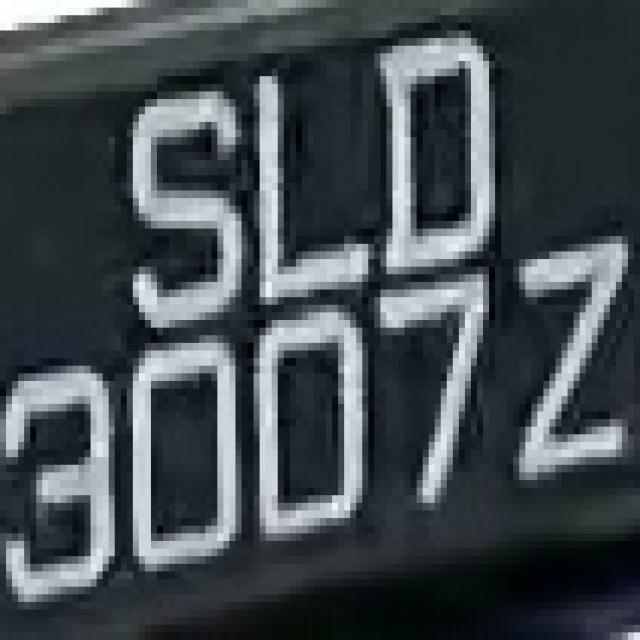0: (120, 312, 260, 579), (242, 313, 392, 556)
3: (12, 320, 127, 625)
7: (374, 274, 501, 510)
D: (374, 38, 514, 259)
L: (254, 46, 380, 312)
S: (108, 76, 242, 328)
Z: (489, 213, 634, 503)
